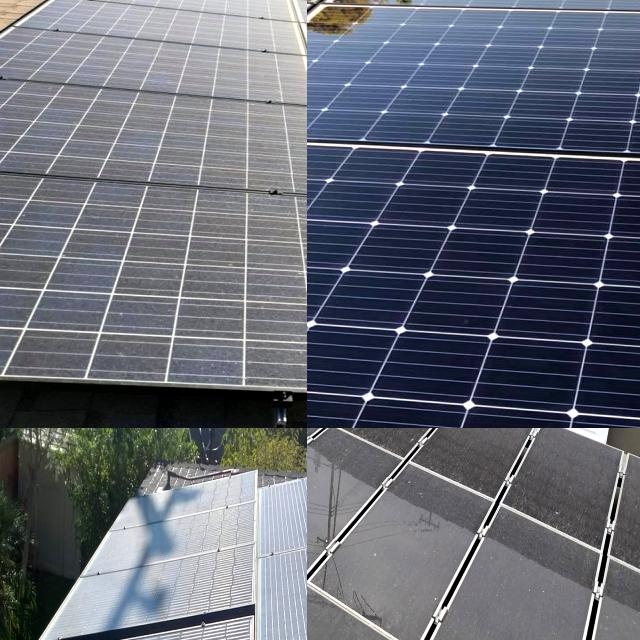crack: (307, 124, 640, 428), (307, 0, 640, 184), (307, 0, 640, 59)
dust: (77, 284, 307, 383), (61, 200, 307, 263), (131, 106, 305, 185), (435, 549, 565, 640), (350, 460, 425, 602), (114, 515, 194, 636), (307, 428, 401, 517), (307, 428, 426, 492), (540, 428, 602, 530), (0, 90, 79, 167), (307, 509, 343, 640), (307, 493, 340, 619), (439, 428, 506, 490), (0, 278, 34, 375), (64, 611, 123, 640), (631, 461, 640, 561)
